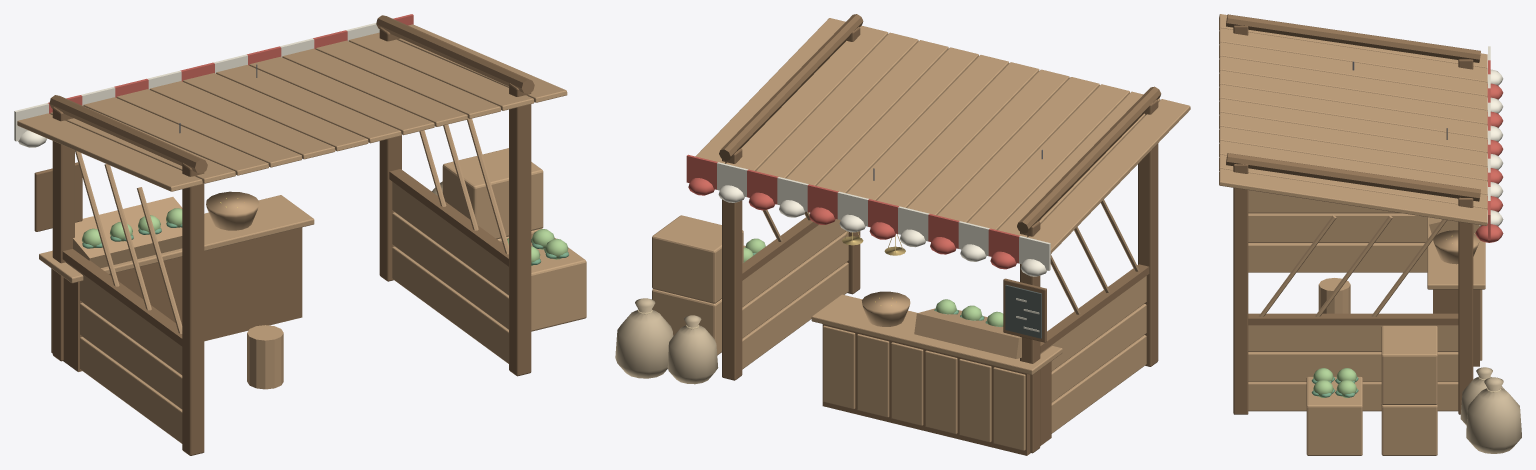
File: stall.glb
3 renders of one model, left to right at view 1: azimuth 30°, elevation 25°; view 2: azimuth 150°, elevation 25°; view 3: azimuth 270°, elevation 25°, orthographic. The views are drawn at different scales.
Parts seen in each view (by area): view 1: stall; view 2: stall; view 3: stall.
Part boxes in pixels (x1=…): stall: x1=14, y1=14, x2=586, y2=455; stall: x1=615, y1=14, x2=1190, y2=455; stall: x1=1219, y1=14, x2=1521, y2=455.
Bounding box in the file's own units: 5.03 × 3.05 × 3.23.
